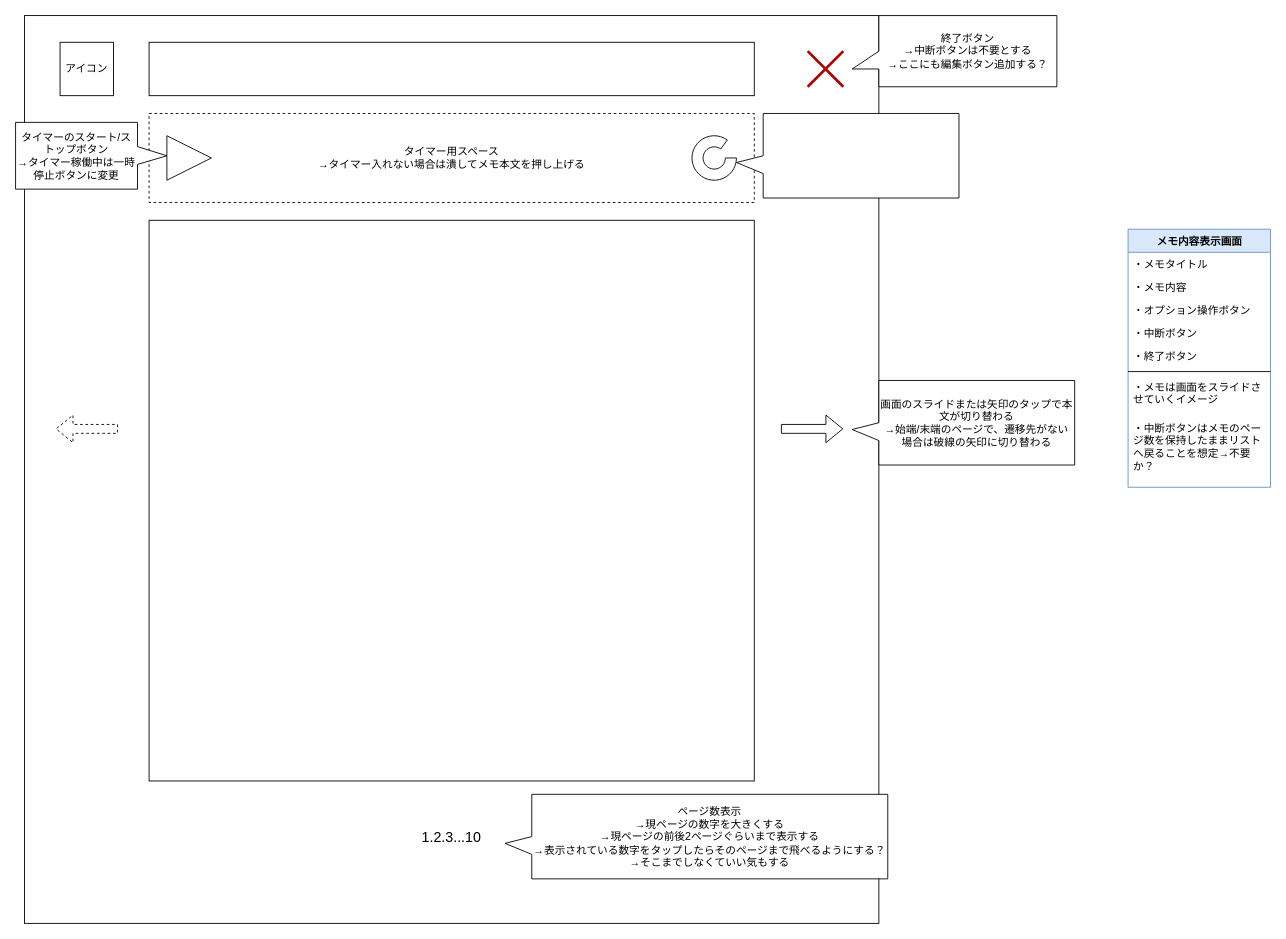
The diagram is 1286 pixels wide and 939 high, and some of its shapes have lost their labels. The shapes that lost their labels are listed below. From the top down, each one's box as (x1, y1, x2, y2) in pixels, then its label:
(148, 41, 754, 96): メモタイトル
(736, 113, 959, 198): タイマーリセットボタン →有効無効の切り替えは不要で常に有効にしておくのでよさそう
(148, 219, 754, 781): メモ本文 →テキストで自由入力 画像が添付されている場合はメモの株に追加する
